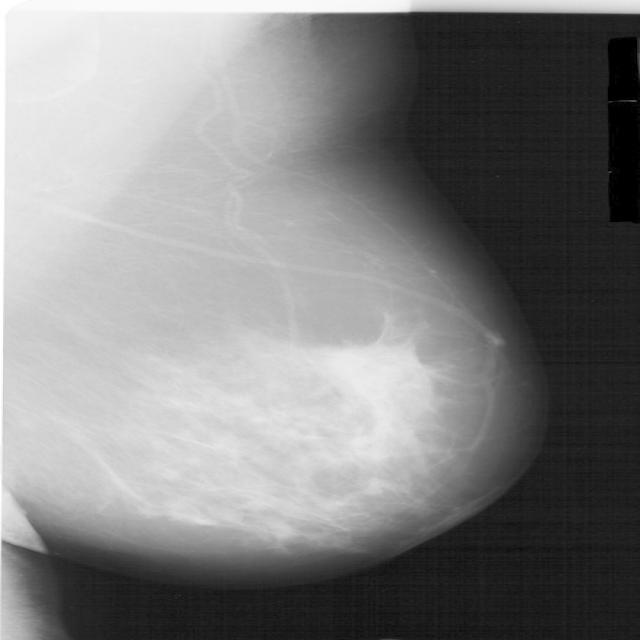tumour: (314, 339, 434, 413)
